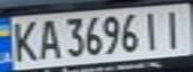3: (60, 15, 84, 58)
6: (118, 10, 145, 54), (81, 12, 106, 56)
9: (100, 11, 124, 55)
A: (33, 16, 60, 61)
I: (157, 7, 190, 50), (139, 8, 166, 52)
K: (6, 17, 42, 63)
